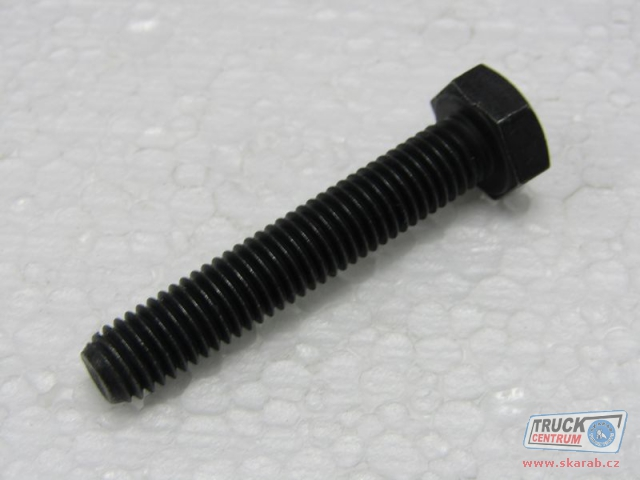screw: (82, 63, 552, 404)
